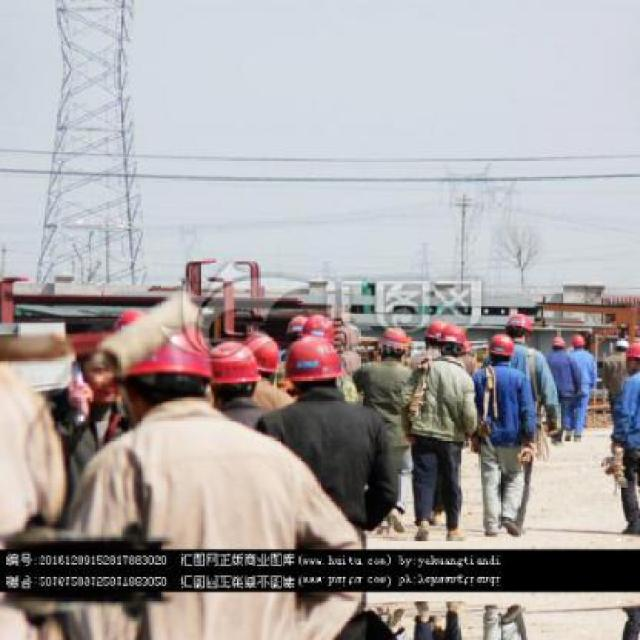helmet: (114, 318, 215, 417), (280, 337, 345, 398), (204, 340, 261, 402), (302, 312, 338, 346), (378, 323, 407, 357), (504, 310, 533, 344), (424, 317, 453, 348), (439, 323, 466, 354), (486, 333, 512, 362), (624, 341, 638, 373), (547, 332, 564, 352), (572, 332, 586, 348), (616, 336, 630, 350)
